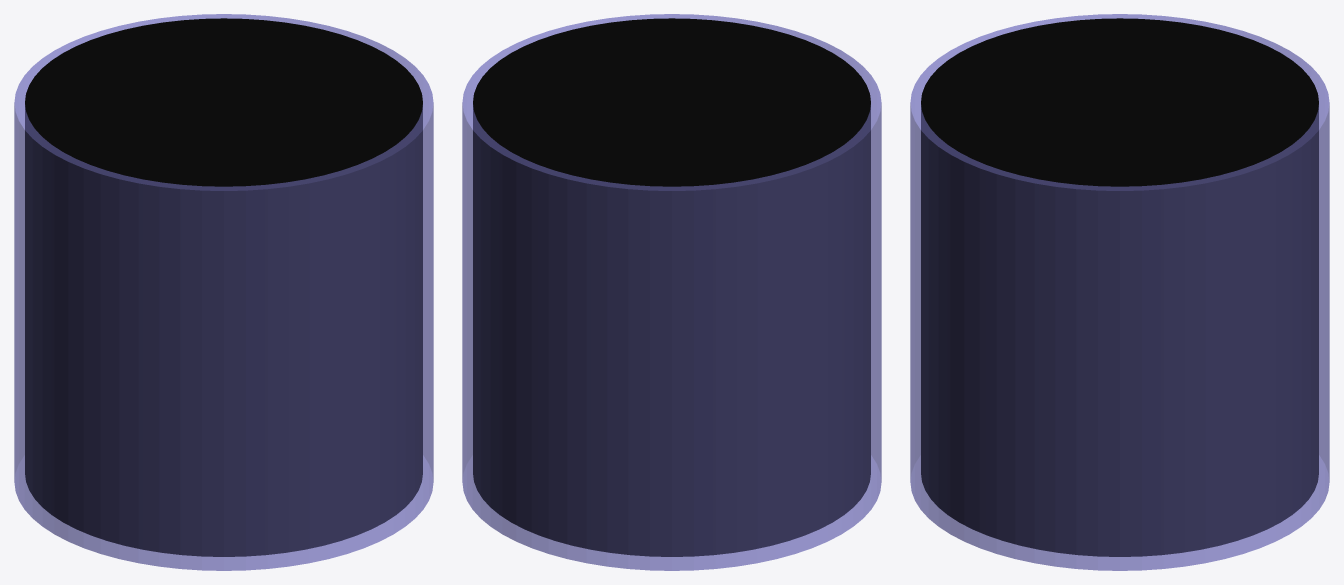
The model's file is Oiltank.fbx.
The picture shows the model from 3 angles, left to right: view 1: azimuth 30°, elevation 25°; view 2: azimuth 150°, elevation 25°; view 3: azimuth 270°, elevation 25°; orthographic projection.
Visible parts, largest first — view 1: Fluid, Wall; view 2: Fluid, Wall; view 3: Fluid, Wall.
Boxes of the visible parts, left/top/right/bottom form: Fluid: left=25, top=18, right=422, bottom=556; Wall: left=14, top=14, right=433, bottom=570; Fluid: left=473, top=18, right=870, bottom=556; Wall: left=462, top=14, right=881, bottom=570; Fluid: left=921, top=18, right=1318, bottom=556; Wall: left=910, top=14, right=1329, bottom=570.
Bounding box in the file's own units: 200 × 200 × 200.
